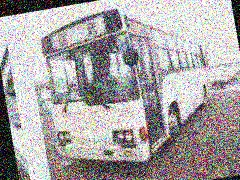bus: (36, 0, 224, 178)
